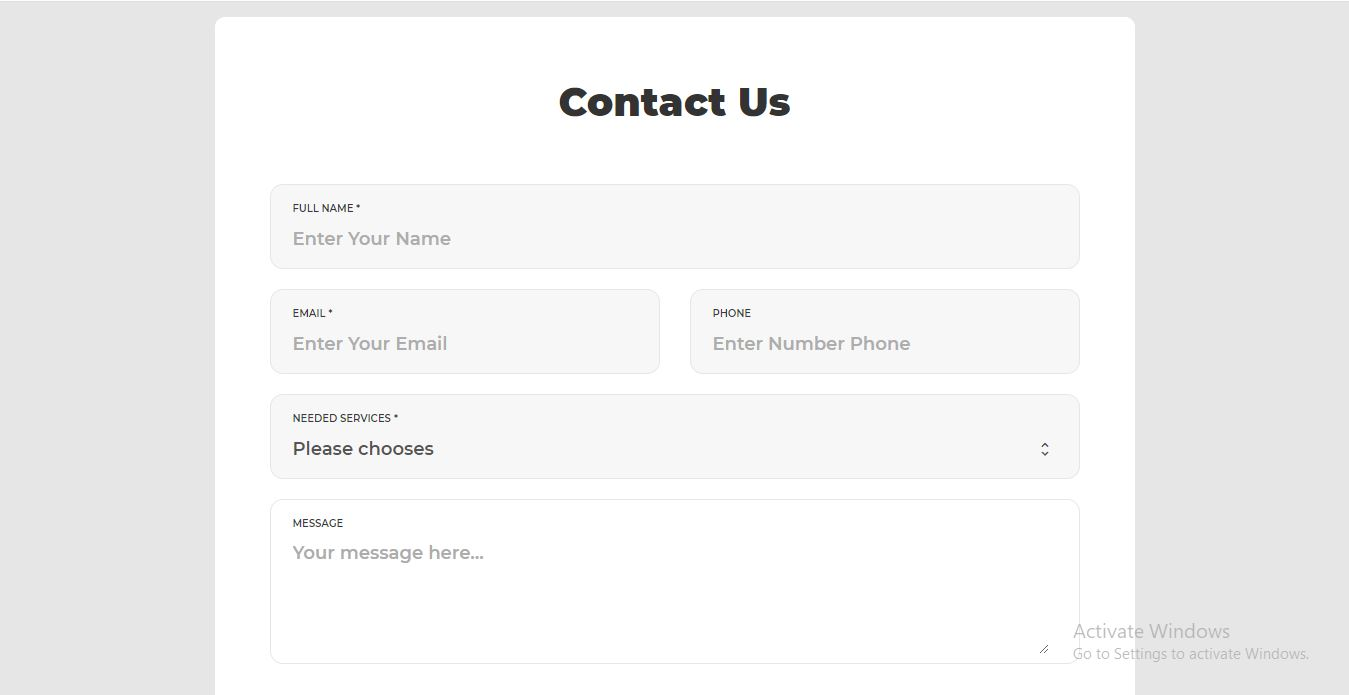Text Field: (281, 503, 1078, 695), (273, 178, 1080, 274), (279, 397, 1072, 473), (688, 282, 1076, 369), (277, 286, 671, 367)
